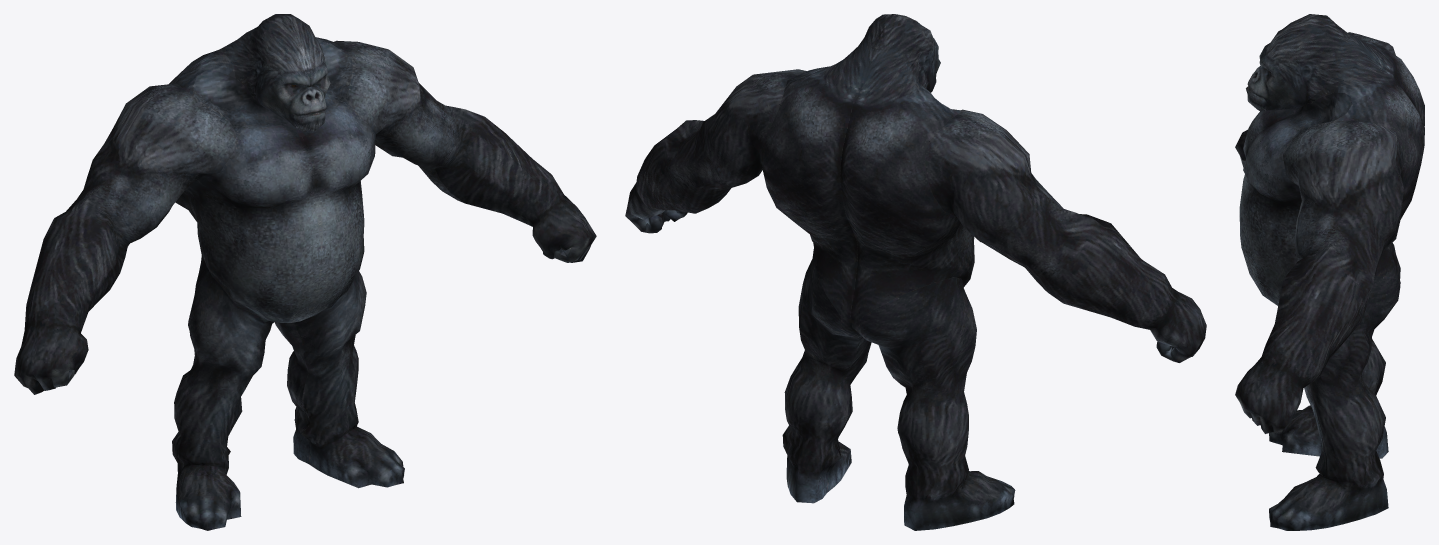
The model's file is Gorilla.dae.
The picture shows the model from 3 angles, left to right: view 1: azimuth 30°, elevation 25°; view 2: azimuth 150°, elevation 25°; view 3: azimuth 270°, elevation 25°; orthographic projection. The views are drawn at different scales.
Parts seen in each view (by area): view 1: TGorilla_Diffuse.png; view 2: TGorilla_Diffuse.png; view 3: TGorilla_Diffuse.png.
Boxes of the visible parts, <box> form: TGorilla_Diffuse.png: <box>14,14,596,530</box>; TGorilla_Diffuse.png: <box>625,14,1206,530</box>; TGorilla_Diffuse.png: <box>1235,14,1424,530</box>.
Bounding box in the file's own units: 340 × 269 × 99.64.
Materials: 1 (1 with a texture image).
